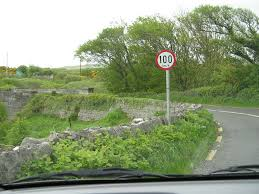Speed_limit_100km: (155, 49, 176, 70)
